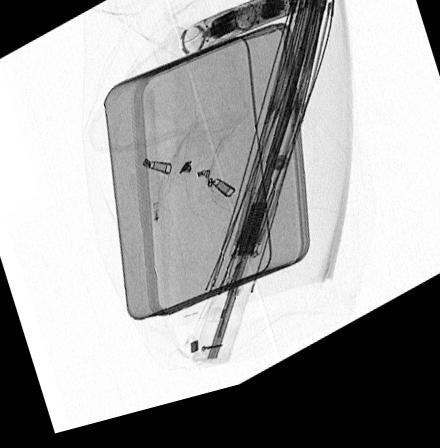Baton: (179, 0, 308, 67)
